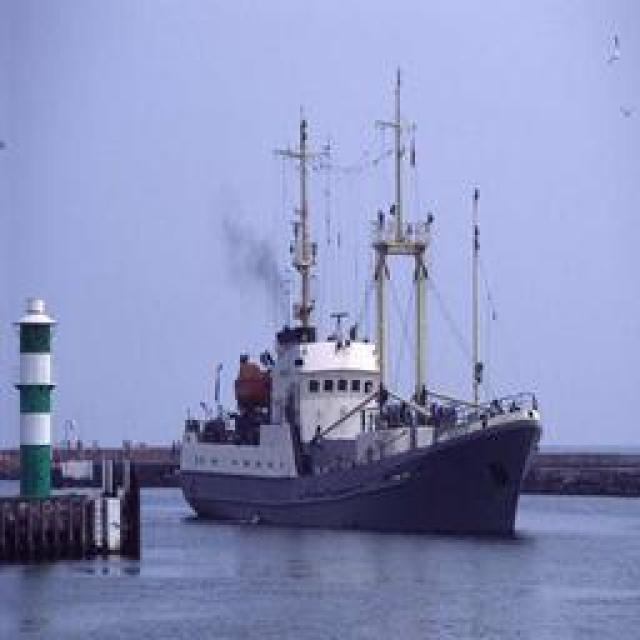CIV_Ship: (177, 65, 545, 520)
